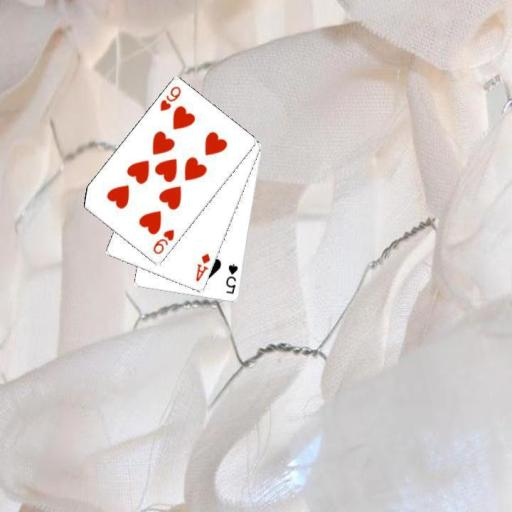card-corner: (156, 83, 183, 113), (150, 226, 176, 256), (222, 261, 240, 296), (193, 250, 212, 283)
